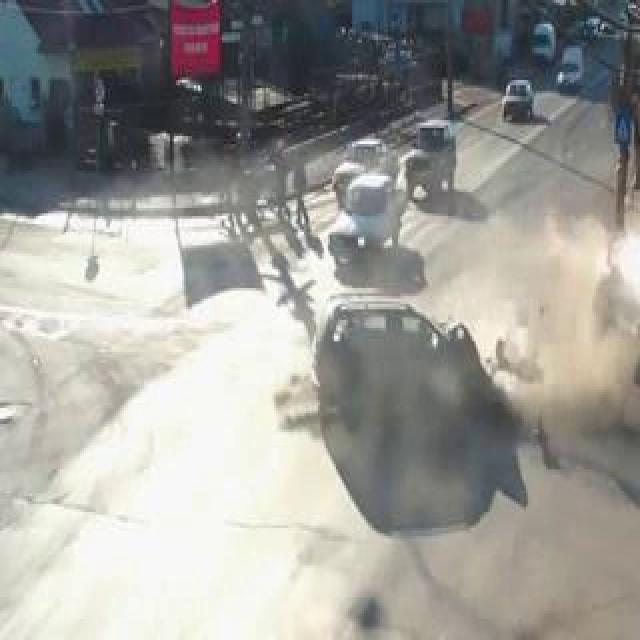car: (307, 288, 500, 424), (326, 174, 410, 272), (401, 115, 463, 200), (333, 133, 397, 197), (556, 42, 589, 98), (502, 78, 534, 119), (529, 23, 557, 63)
